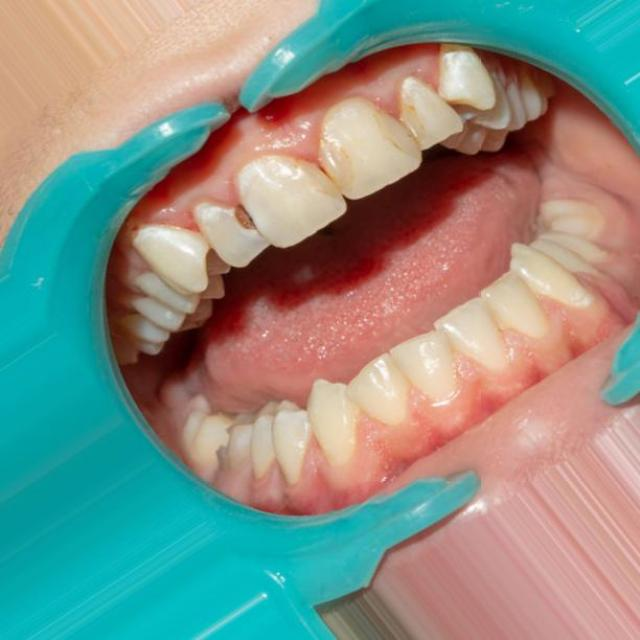caries: (290, 137, 359, 199), (367, 99, 432, 160), (225, 192, 268, 246)
